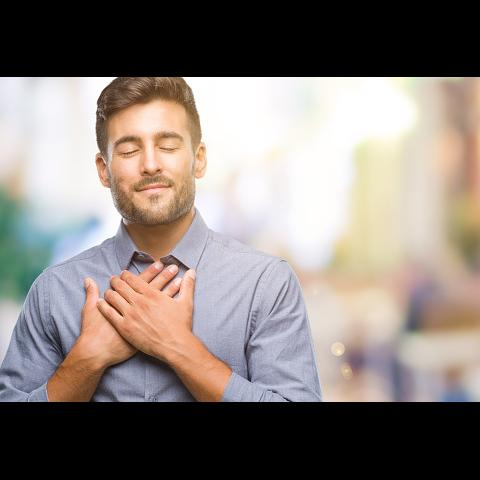closed: (105, 132, 192, 163)
